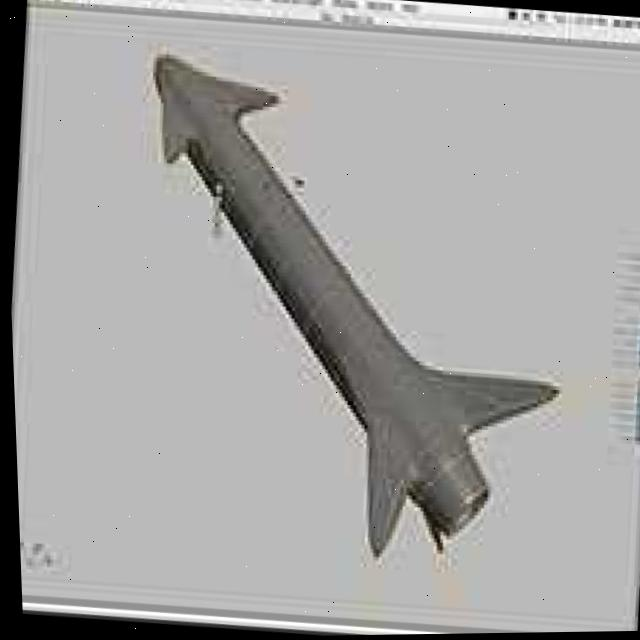missile: (114, 47, 578, 577)
